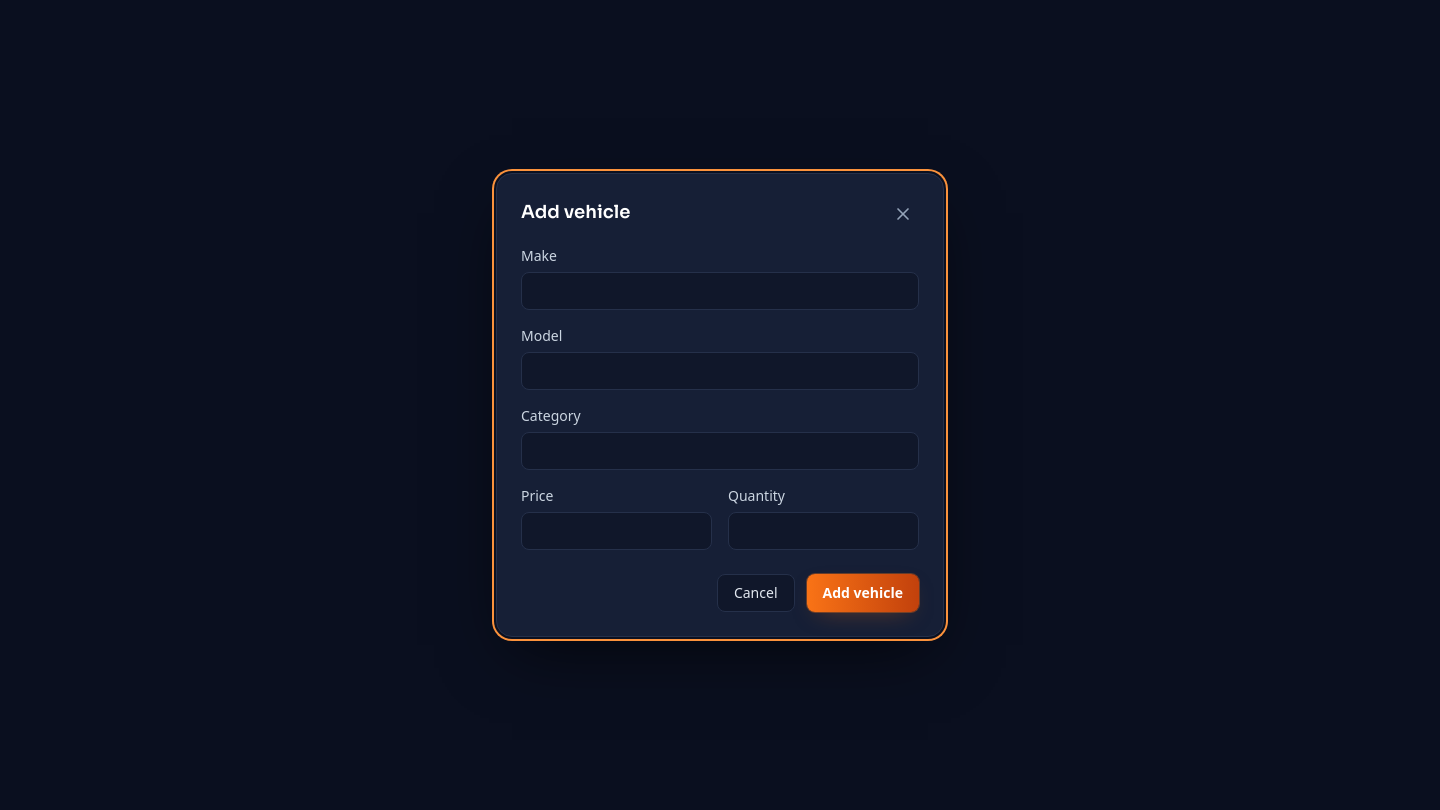
Test case: VehicleFormModal › validates price and quantity and blocks submission
The image size is (1440, 810).
In the field labelled "Make": (720,291) [521, 272, 919, 310], type "Toyota"
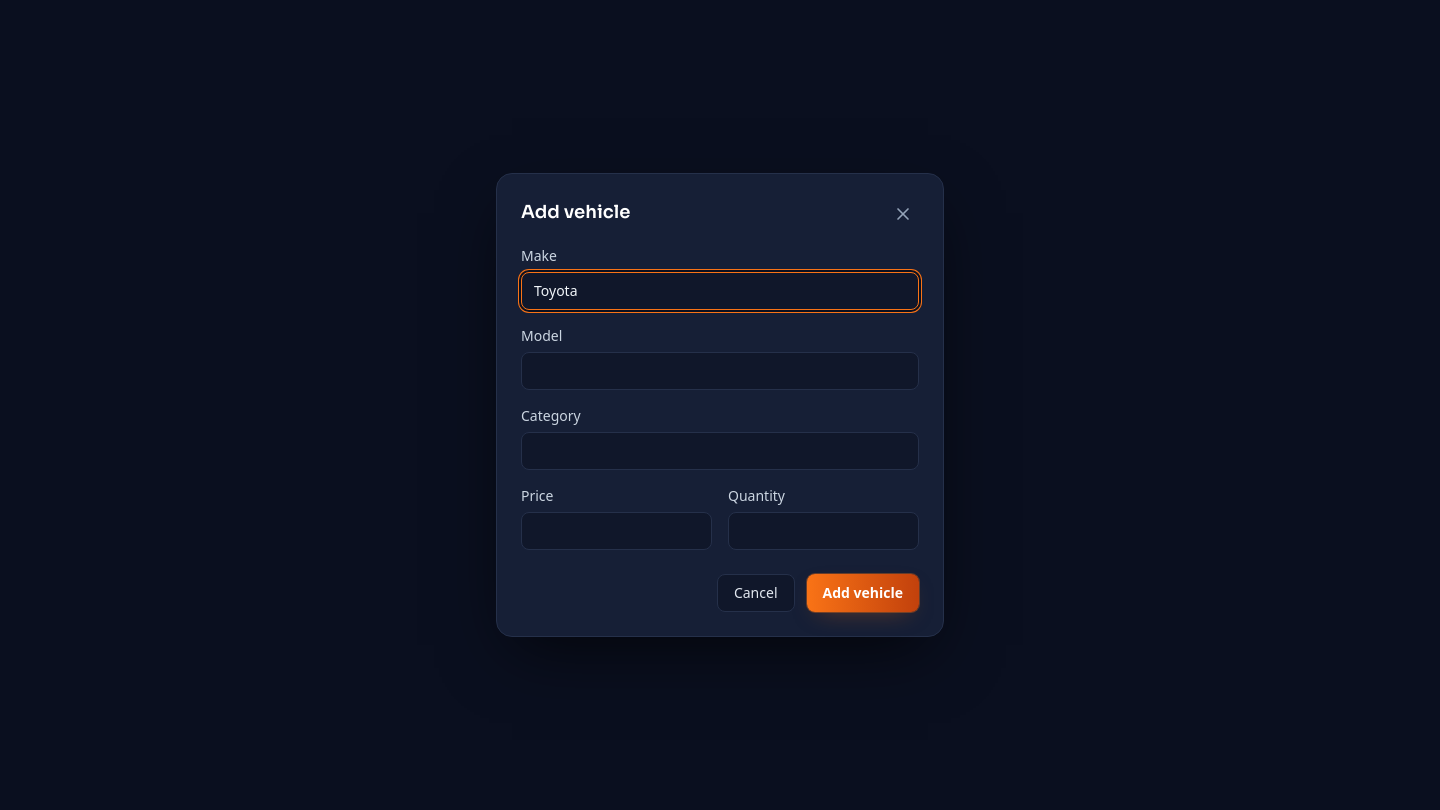
In the field labelled "Model": (720,371) [521, 352, 919, 390], type "Corolla"
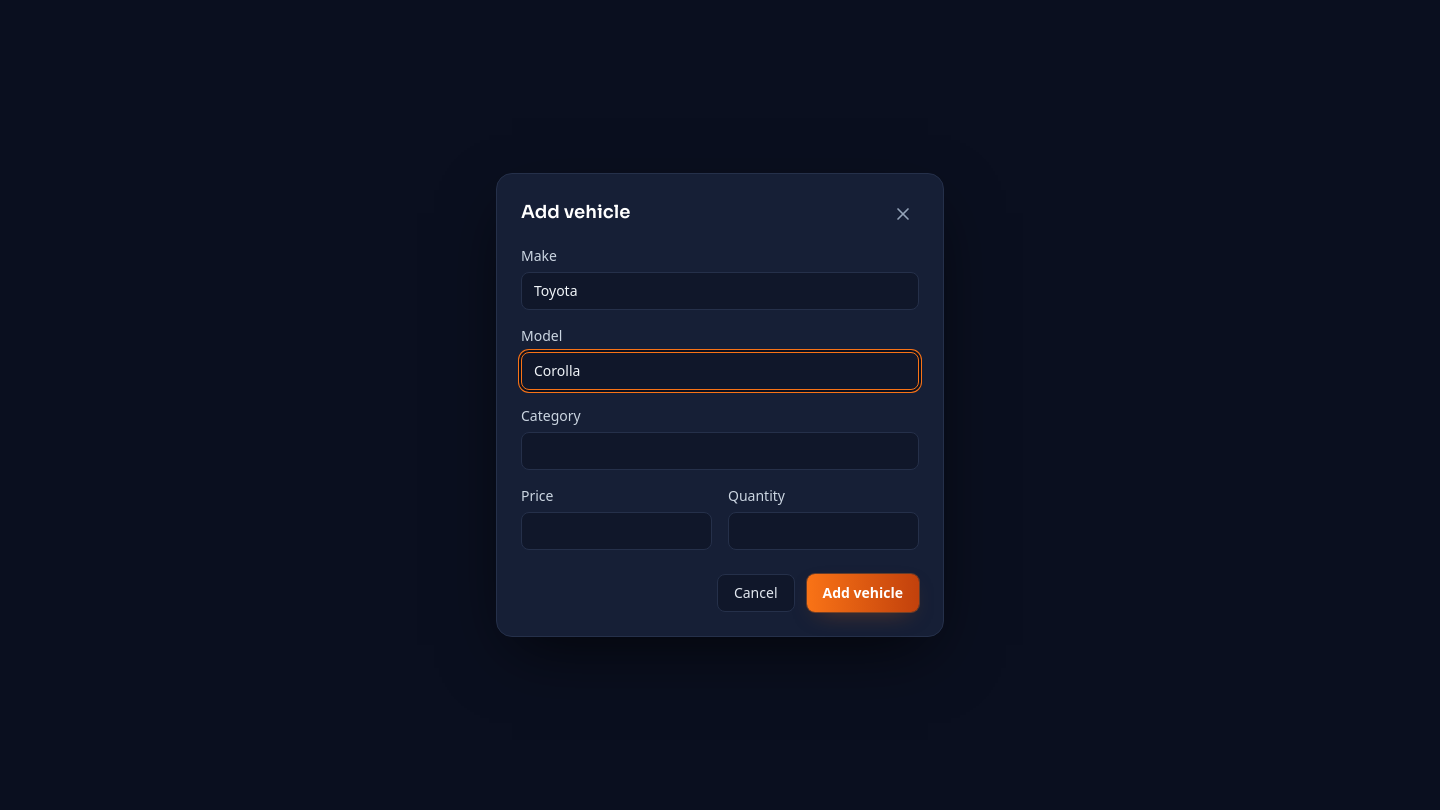
In the field labelled "Category": (720,451) [521, 432, 919, 470], type "Sedan"
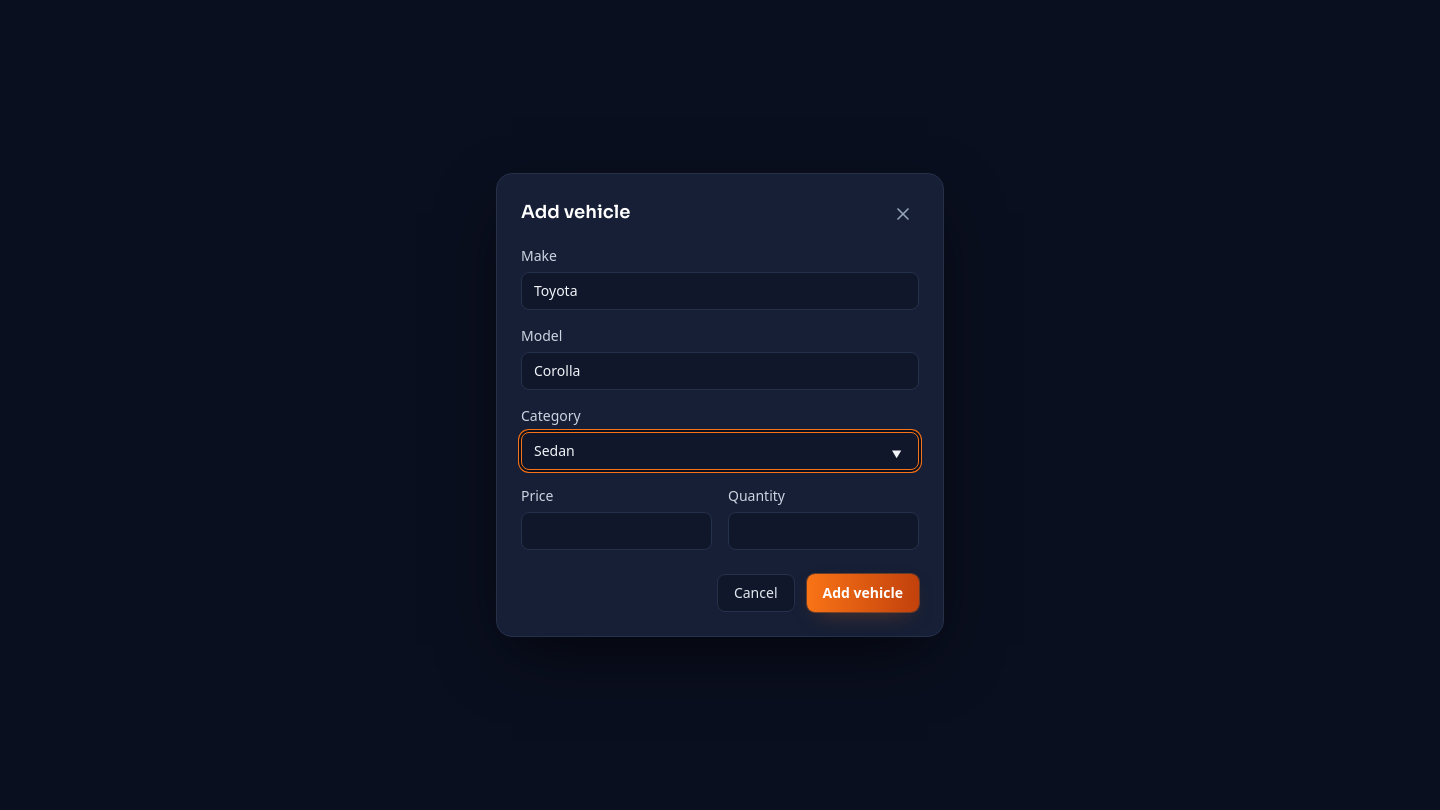
In the number field labelled "Price": (616,531) [521, 512, 712, 550], type "-5"
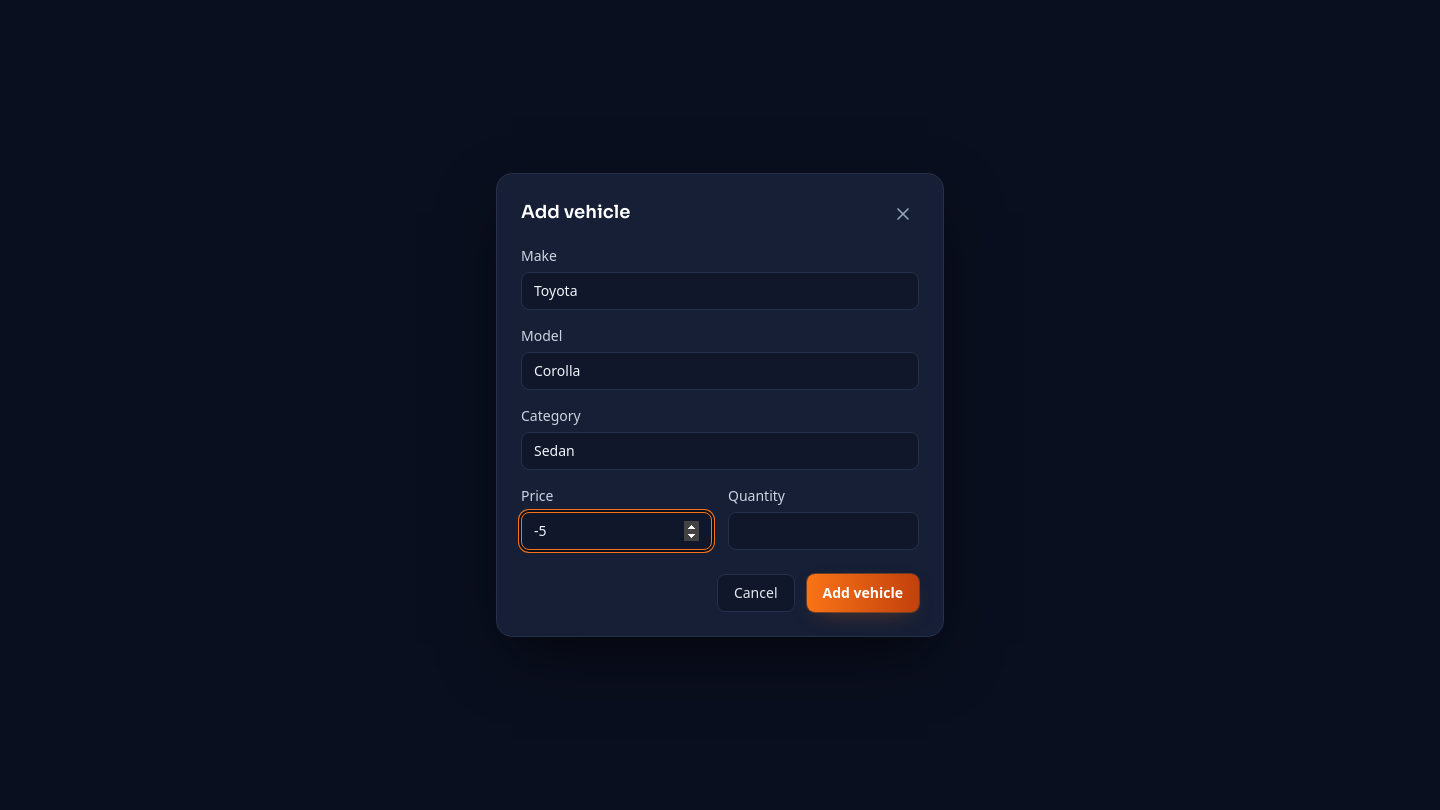
In the number field labelled "Quantity": (824,531) [728, 512, 919, 550], type "2.5"
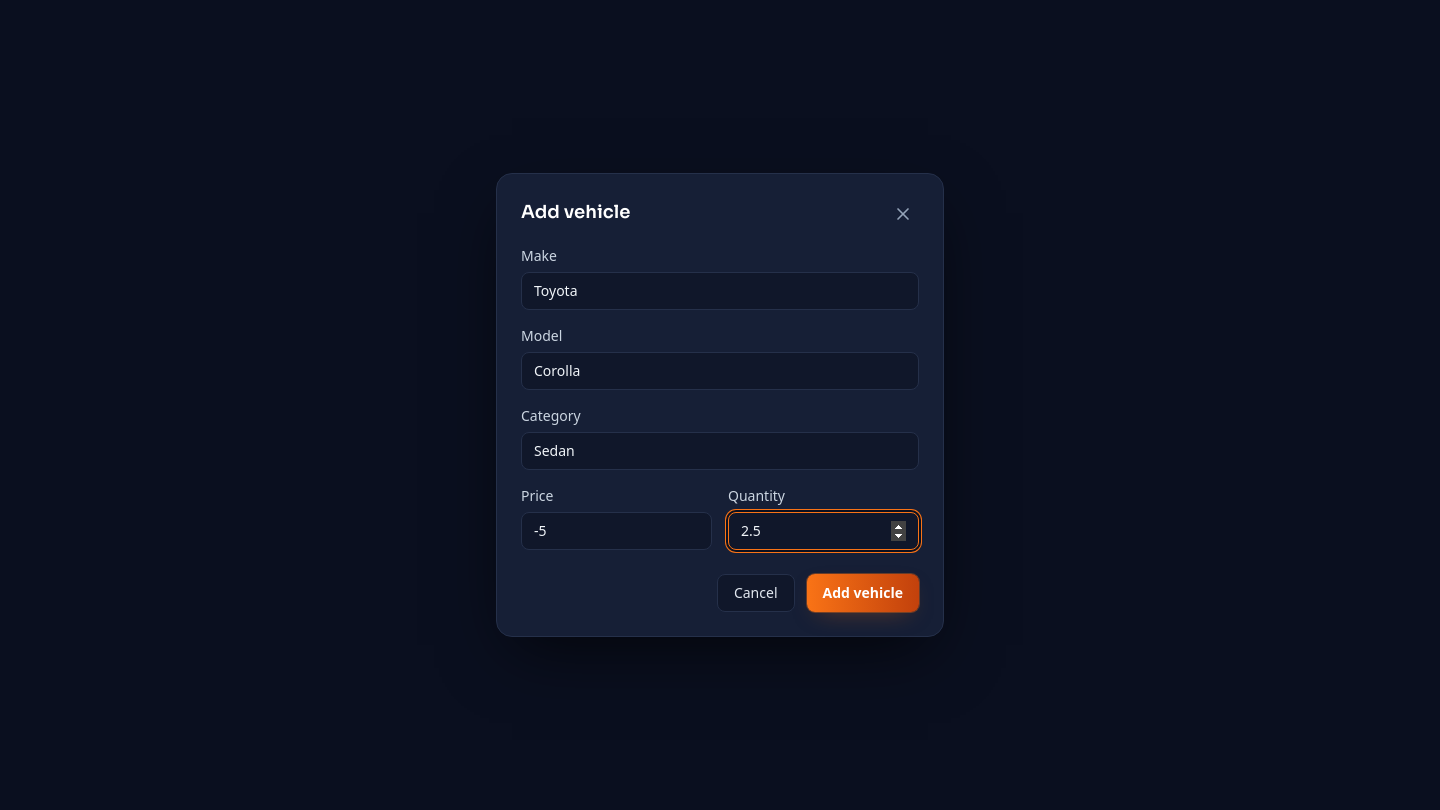
Click the button "Add vehicle": (863,593) [806, 574, 919, 612]
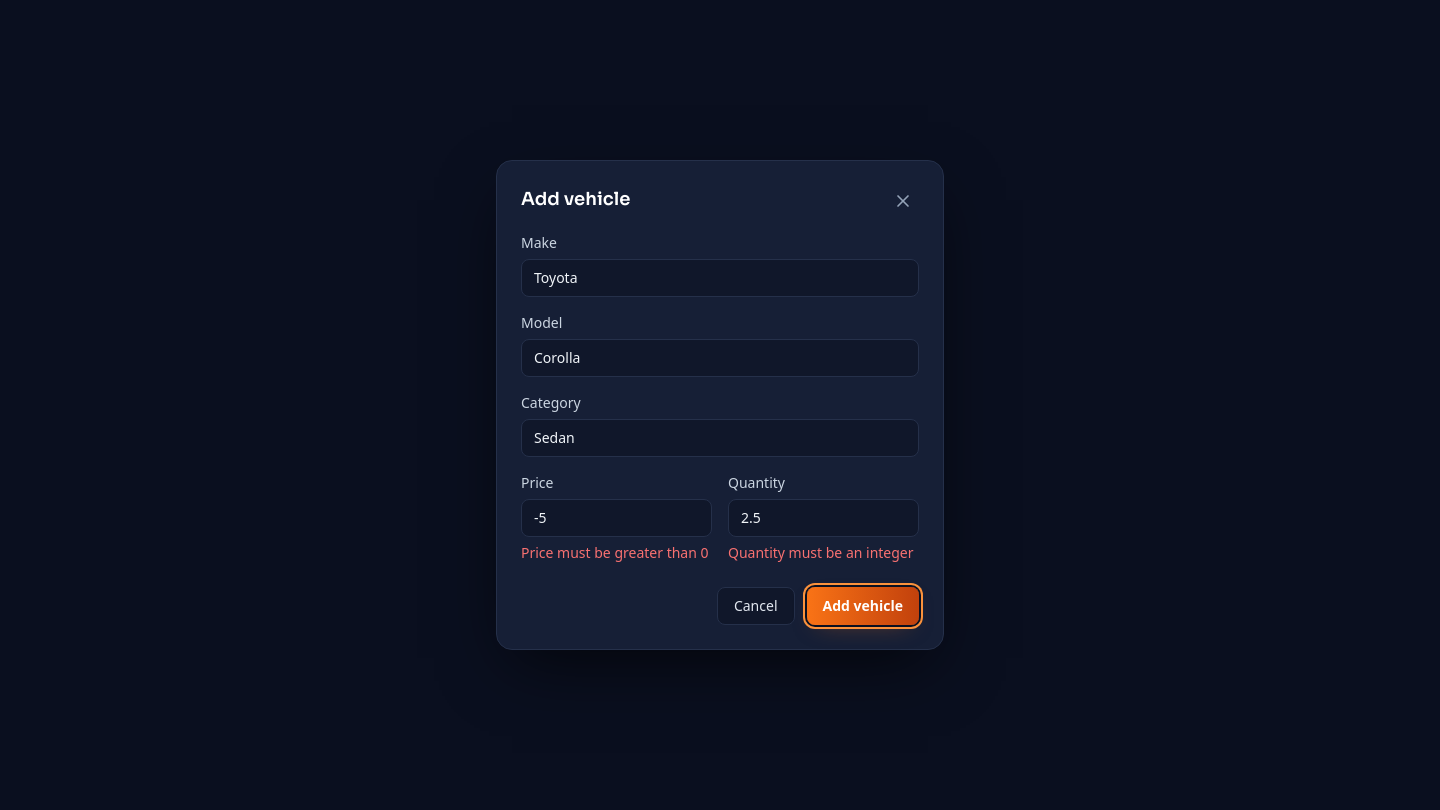
Expected: the text "Price must be greater than 0" is shown, [521, 543, 712, 563]
Expected: the text "Quantity must be an integer" is shown, [728, 543, 919, 563]
